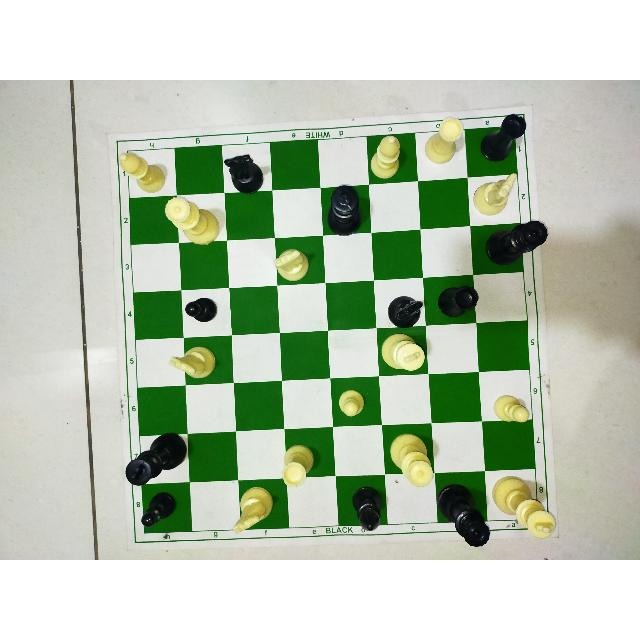black-bishop: (346, 483, 388, 530)
black-king: (123, 427, 188, 486), (323, 178, 366, 239)
black-knight: (219, 155, 268, 194), (385, 290, 427, 329)
black-pawn: (139, 487, 174, 531), (182, 297, 224, 323)
black-queen: (439, 482, 492, 549), (487, 218, 551, 267)
black-rook: (477, 113, 531, 162), (435, 283, 479, 319)
white-bishop: (116, 148, 168, 191), (366, 130, 411, 179)
white-king: (490, 474, 557, 540), (378, 331, 425, 377)
white-knight: (231, 479, 275, 538), (472, 168, 519, 219), (167, 343, 220, 385), (273, 247, 314, 287)
white-pawn: (492, 389, 532, 427), (332, 385, 365, 421)
white-queen: (160, 195, 224, 247), (386, 431, 440, 489)
white-rook: (422, 114, 466, 166), (280, 441, 317, 489)
